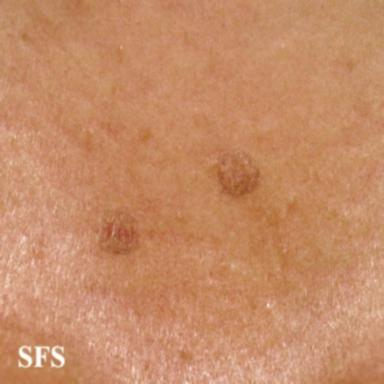Porokeratosis: (218, 150, 259, 195), (99, 211, 139, 254)
